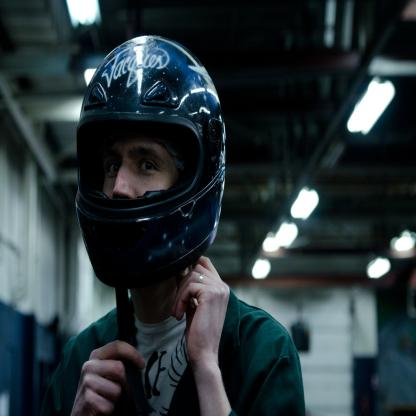Helmet: (75, 30, 226, 369)
